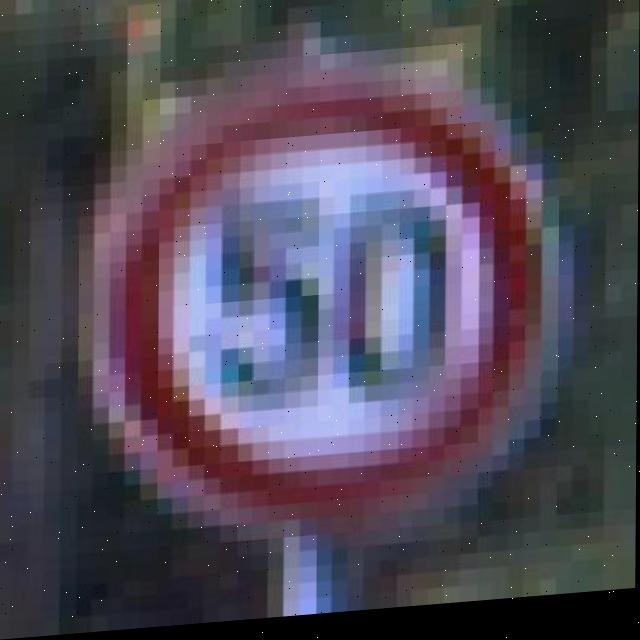Speed limit 50: (99, 40, 551, 545)
